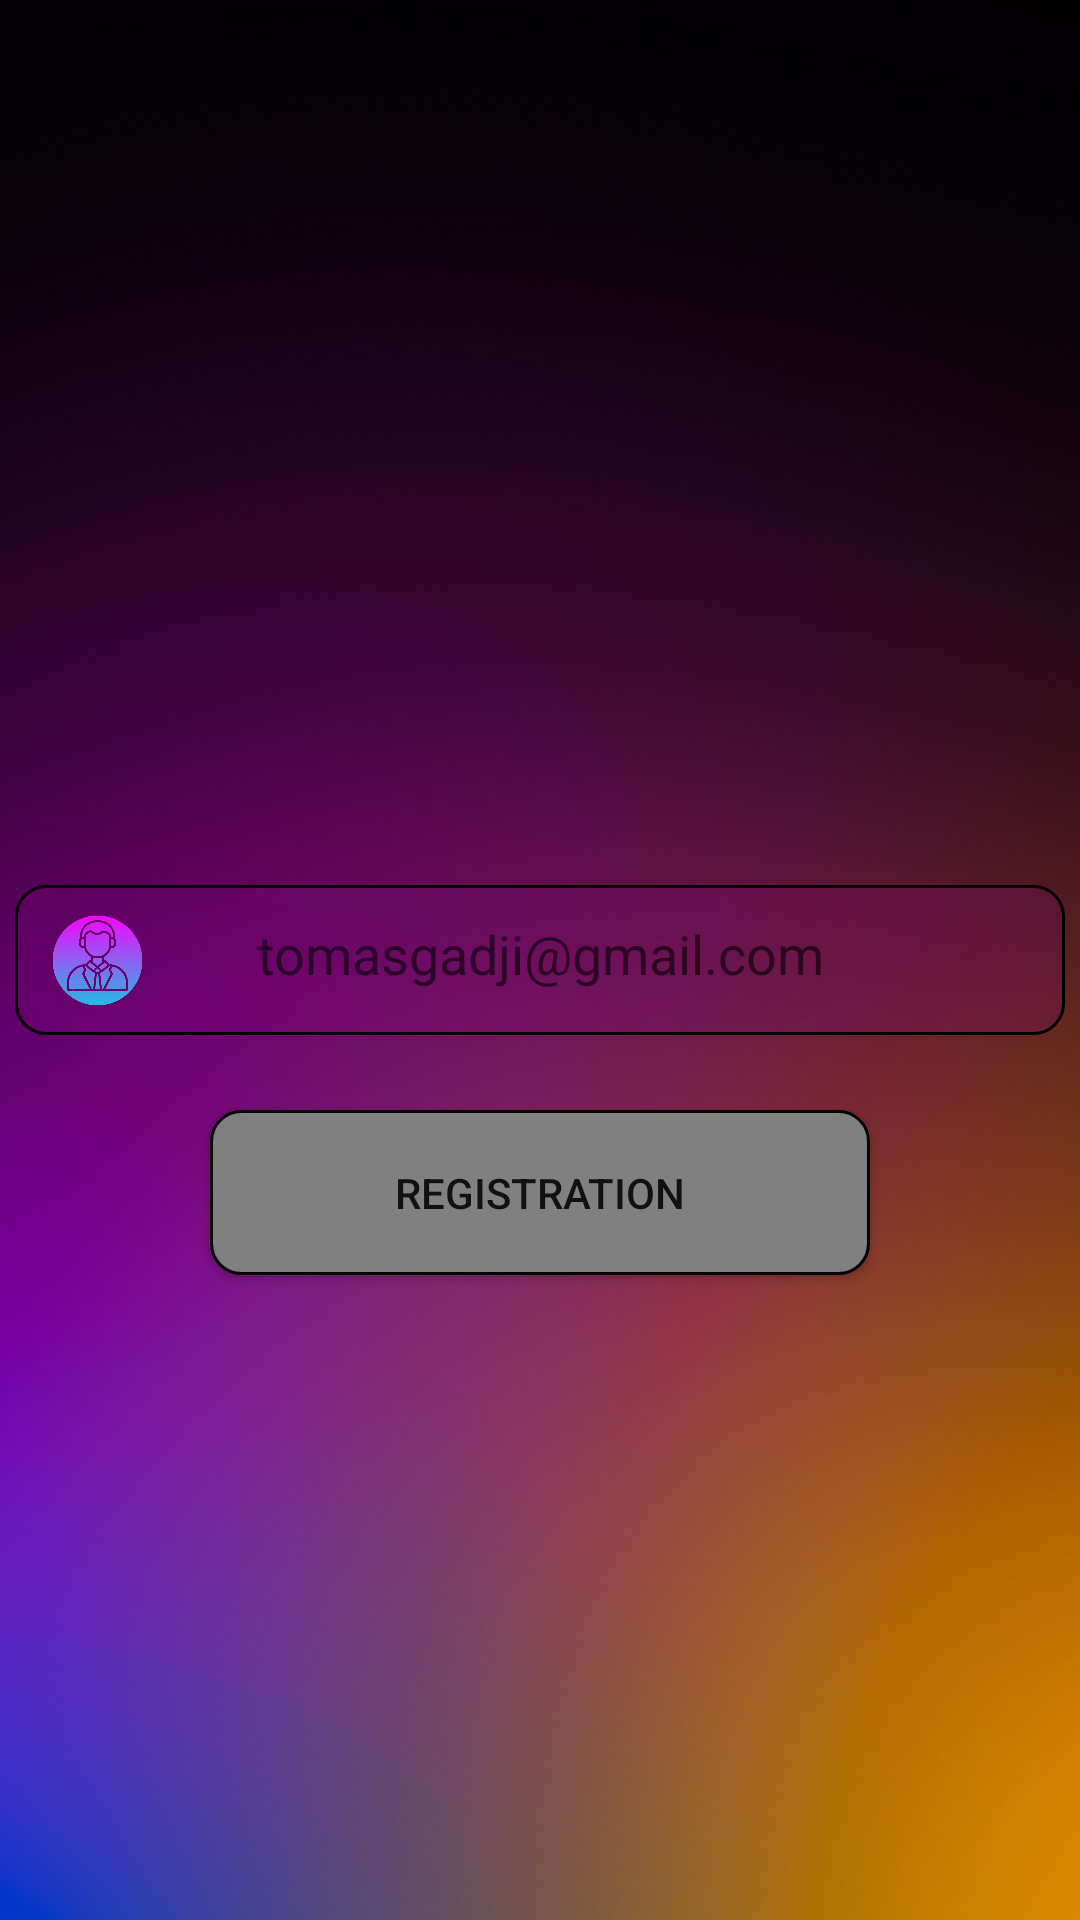

Icon bounding boxes for this 1080×1920 phone screenshot, format (x1, y1, x2, y2):
account: (53, 916, 142, 1005)
